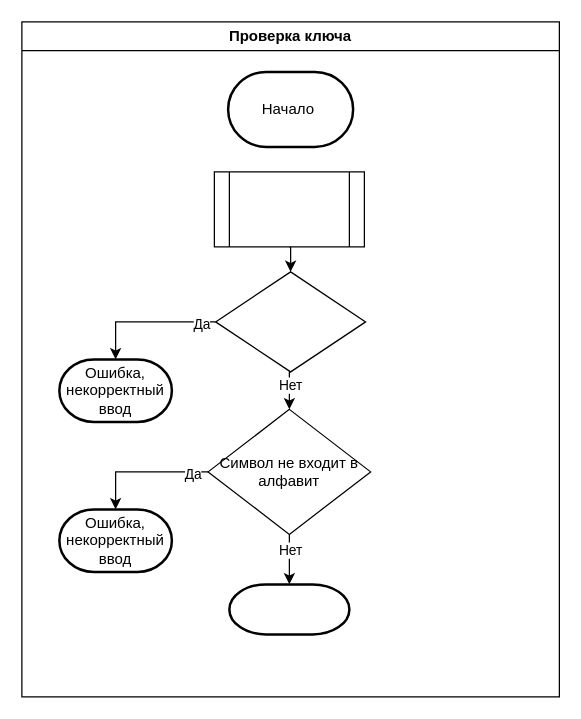
This 581x719 diagram has some shape labels left out. The box of each missing label's shape, as (x1, y1, x2, y2) in pixels:
Вернуть результат: (228, 582, 350, 635)
Получение ключа и алфавита: (213, 171, 364, 247)
Пустое ли ключевое слово: (214, 271, 366, 372)
